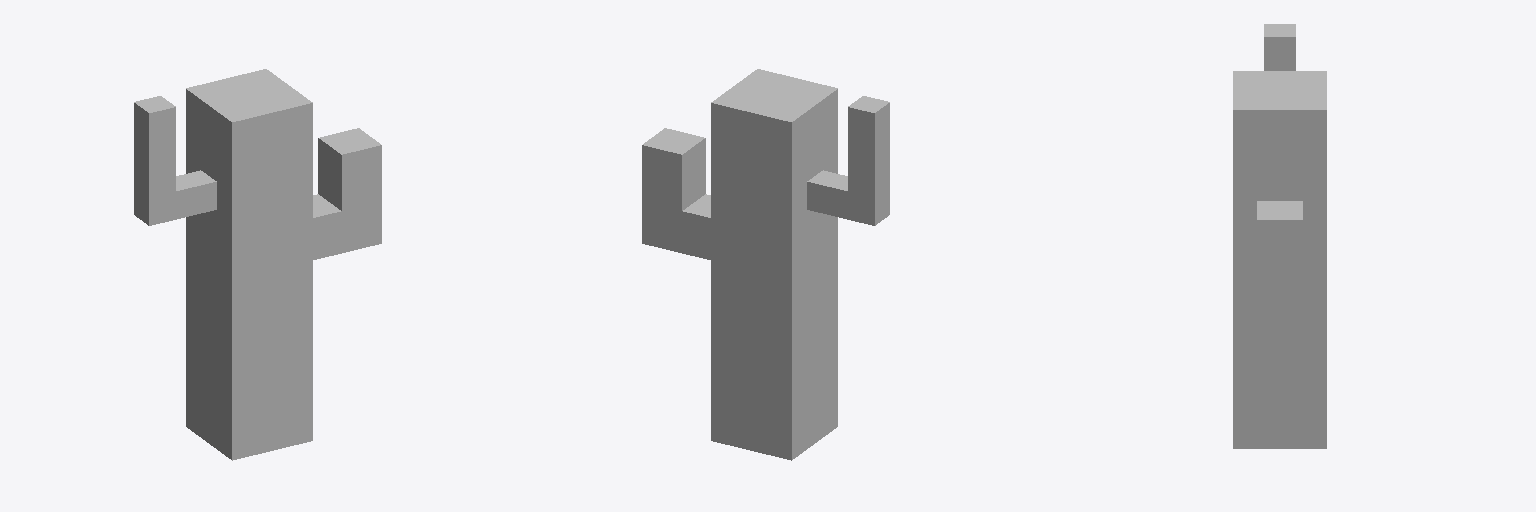
Rendered from cactus_a.obj.
The picture shows the model from 3 angles: view 1: azimuth 30°, elevation 25°; view 2: azimuth 150°, elevation 25°; view 3: azimuth 270°, elevation 25°; orthographic projection.
Parts seen in each view (by area): view 1: head, lower, bottom, upper, lower_arm, upper_arm, upper_forearm, lower_forearm; view 2: head, lower, bottom, upper, lower_arm, upper_arm, upper_forearm, lower_forearm; view 3: head, bottom, lower, lower_arm, upper, upper_arm.
Part boxes in pixels (left/top/right/bottom): head: left=186, top=69, right=312, bottom=206; lower: left=186, top=258, right=312, bottom=375; bottom: left=186, top=343, right=312, bottom=460; upper: left=186, top=187, right=312, bottom=291; lower_arm: left=318, top=128, right=381, bottom=252; upper_arm: left=134, top=96, right=175, bottom=225; upper_forearm: left=176, top=170, right=216, bottom=219; lower_forearm: left=313, top=194, right=341, bottom=259; head: left=711, top=69, right=837, bottom=206; lower: left=711, top=258, right=837, bottom=375; bottom: left=711, top=343, right=837, bottom=460; upper: left=711, top=187, right=837, bottom=291; lower_arm: left=642, top=128, right=705, bottom=252; upper_arm: left=848, top=96, right=889, bottom=225; upper_forearm: left=807, top=170, right=847, bottom=219; lower_forearm: left=682, top=194, right=710, bottom=259; head: left=1233, top=71, right=1326, bottom=194; bottom: left=1233, top=364, right=1326, bottom=448; lower: left=1233, top=279, right=1326, bottom=363; lower_arm: left=1257, top=201, right=1302, bottom=318; upper: left=1233, top=195, right=1326, bottom=278; upper_arm: left=1264, top=24, right=1295, bottom=70.
Bounding box in the file's own units: 1.06 × 1.56 × 0.375.